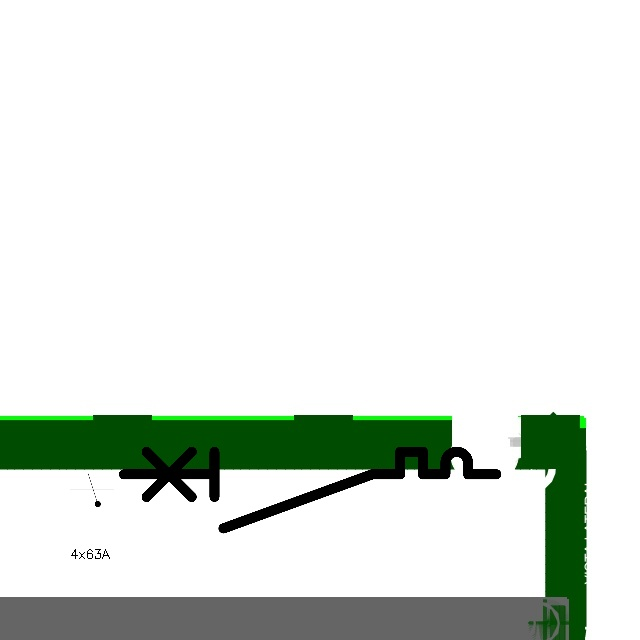interruptor_termomagnetico: (114, 442, 505, 537)
